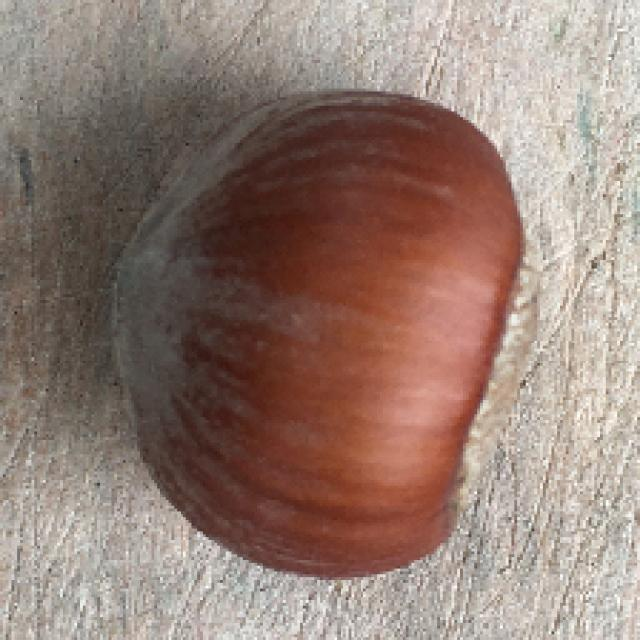qualityHazelnut: (94, 78, 530, 580)
